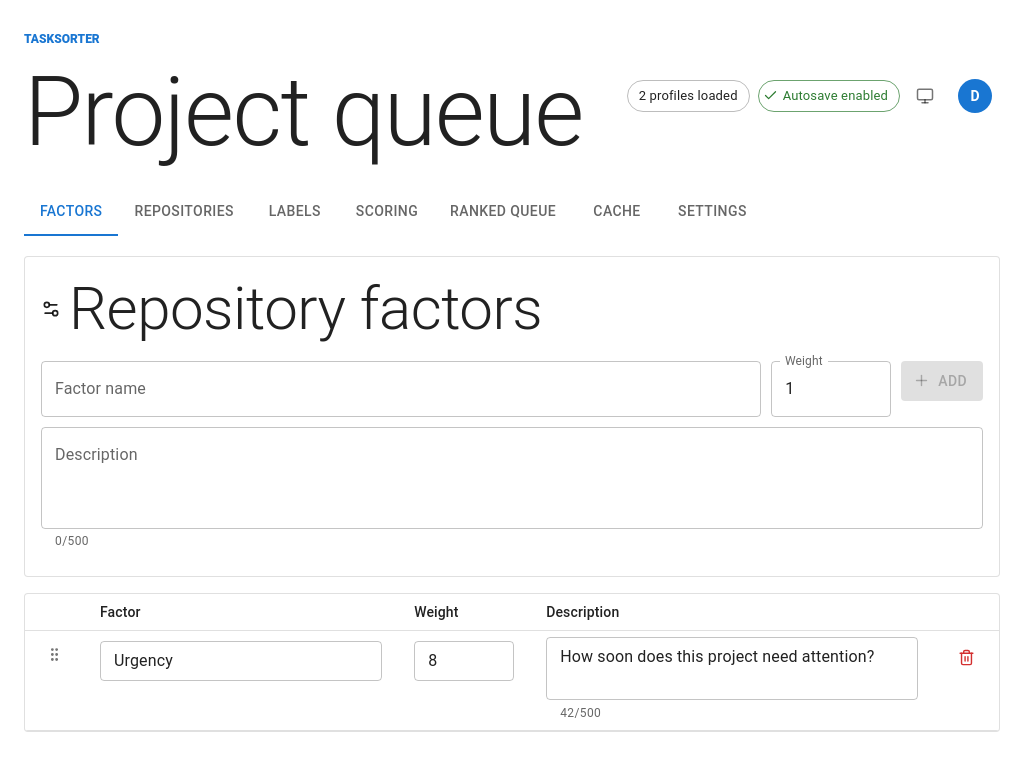
Scenario: App › shows local repository validation without sending an invalid update
The image size is (1036, 768).
Expected: the text "Autosave enabled" is shown, [783,88,888,103]
Click the tab "Repositories". click: point(184, 212)
box: [118,188,250,236]
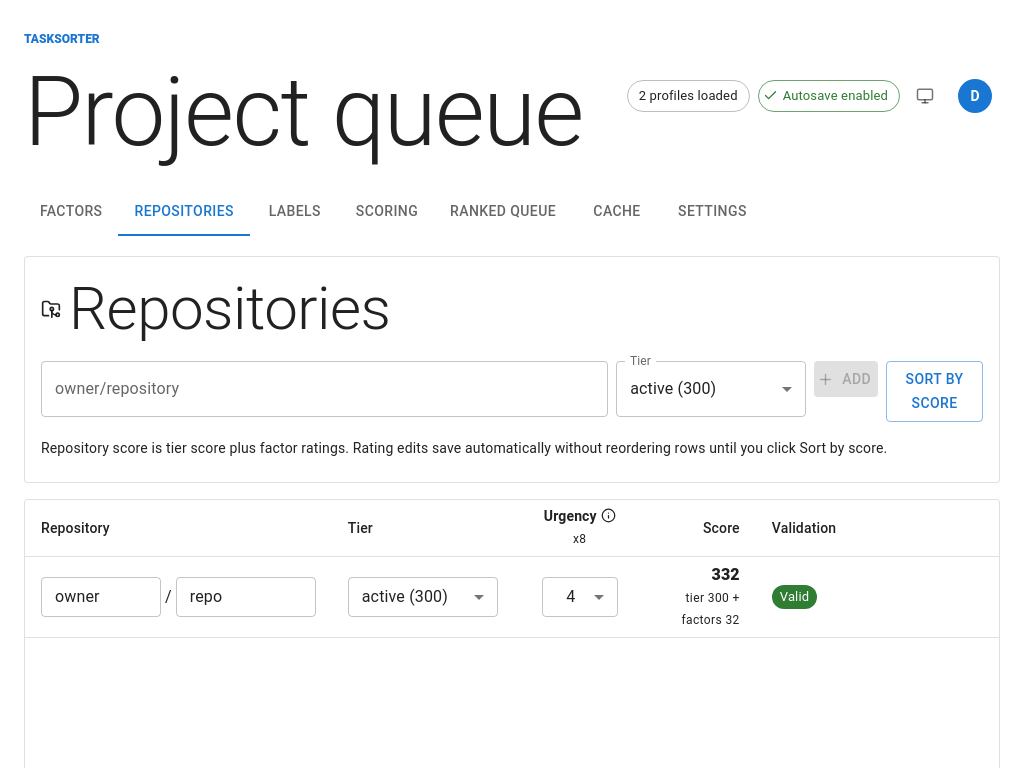
Replace the text in the 2nd field showing "repo" with "bad/name". click: point(246, 597)
box: [176,577,316,617]
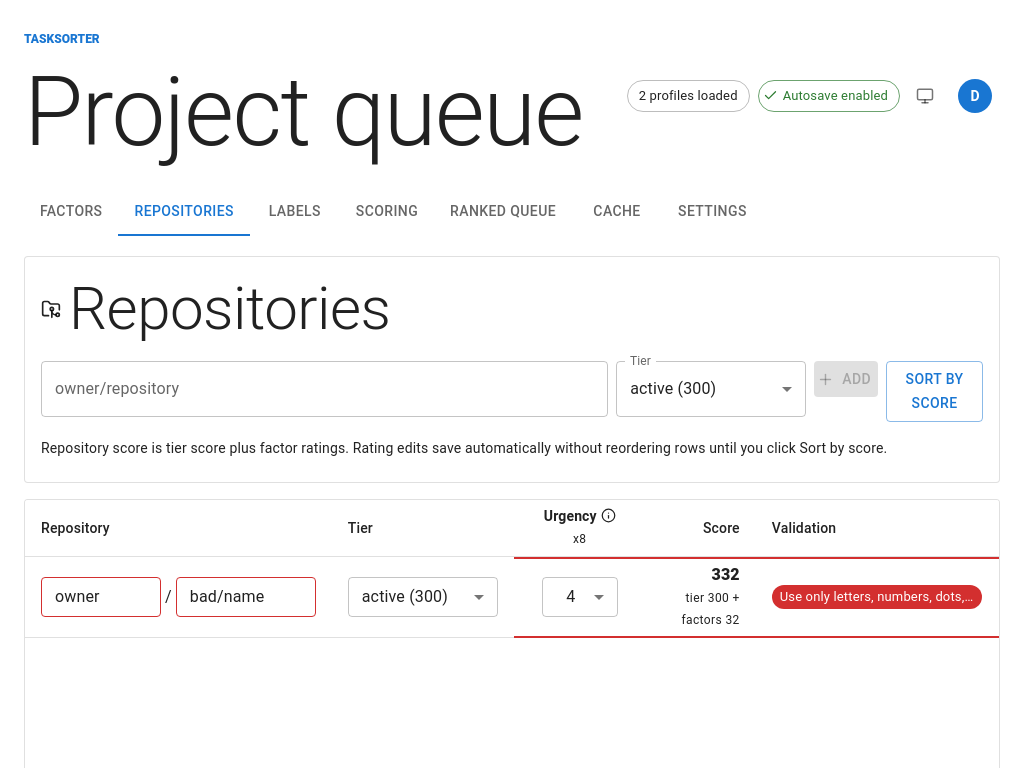
Expected: the text "Use only letters, numbers, dots, dashes, or underscores." is shown, [772,587,982,607]
